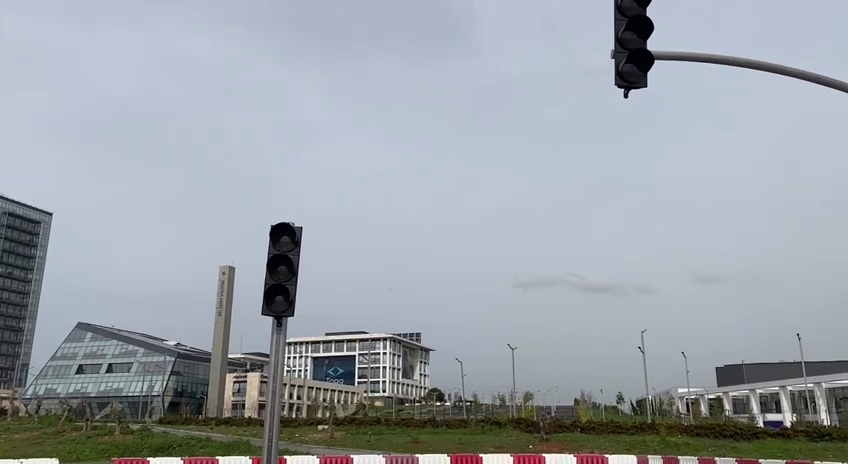trafficLight: (256, 216, 307, 324), (607, 1, 658, 97)
